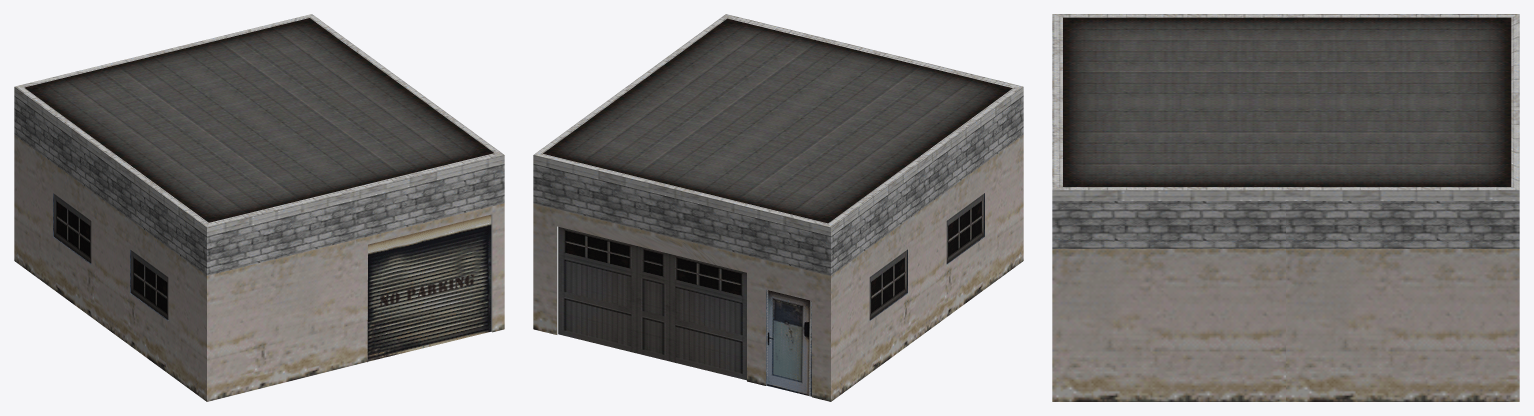
Rendered from psx_prop_-_old_garage.glb.
3 renders of one model, left to right at view 1: azimuth 30°, elevation 25°; view 2: azimuth 150°, elevation 25°; view 3: azimuth 270°, elevation 25°, orthographic. The views are drawn at different scales.
Parts seen in each view (by area): view 1: urbangarage512; view 2: urbangarage512; view 3: urbangarage512.
Part boxes in pixels (x1,y1,x2,y2): urbangarage512: [14, 14, 504, 401]; urbangarage512: [533, 14, 1023, 401]; urbangarage512: [1052, 14, 1519, 401].
Bounding box in the file's own units: 7.14 × 4 × 8.
1 material, 1 textured.
